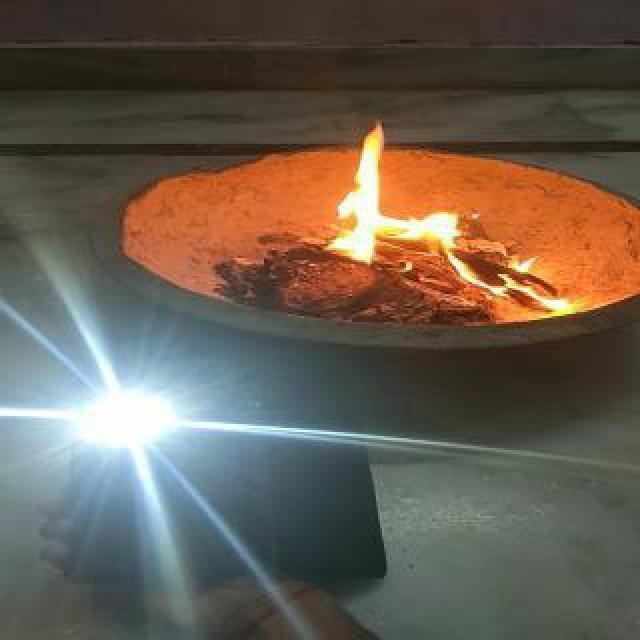zfire: (332, 122, 584, 304)
